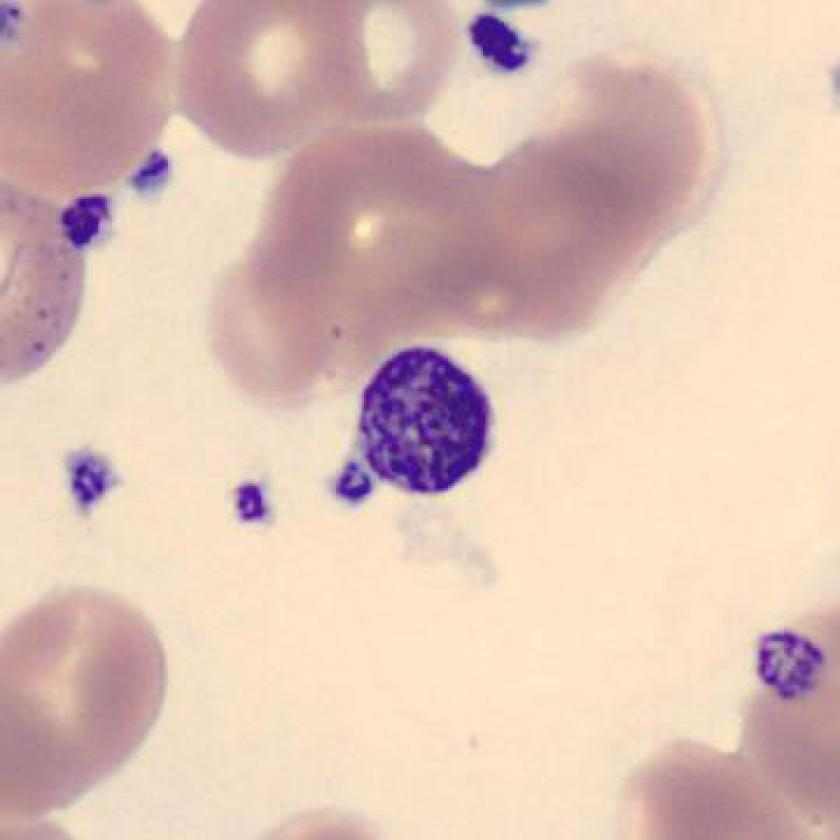platelets: (347, 332, 508, 508), (745, 612, 834, 718), (52, 436, 134, 533), (50, 179, 125, 267), (321, 452, 386, 536), (127, 135, 185, 216), (223, 471, 281, 549)
